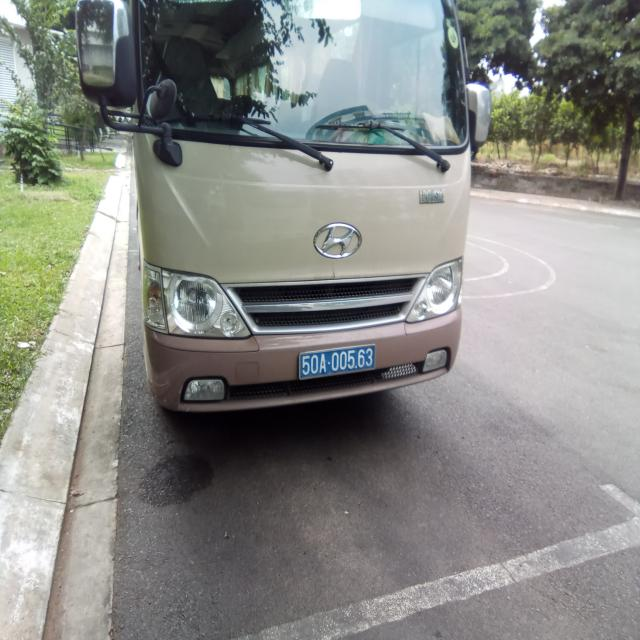bien_xanh: (298, 347, 380, 377)
